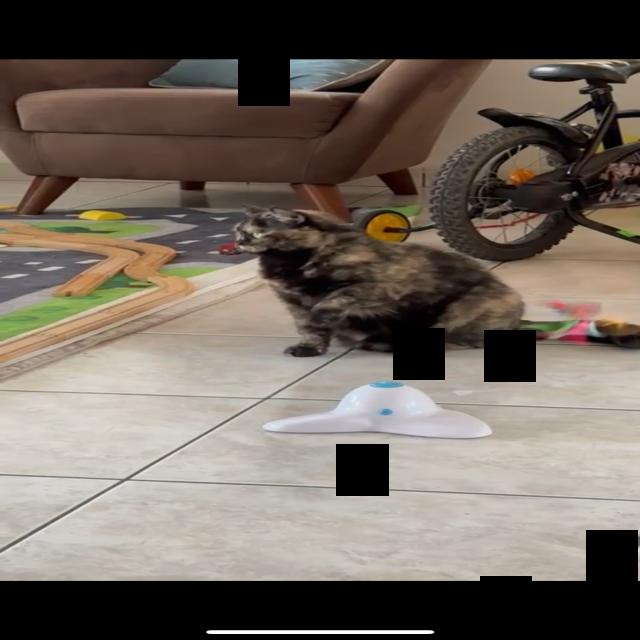authorized: (227, 203, 544, 358)
